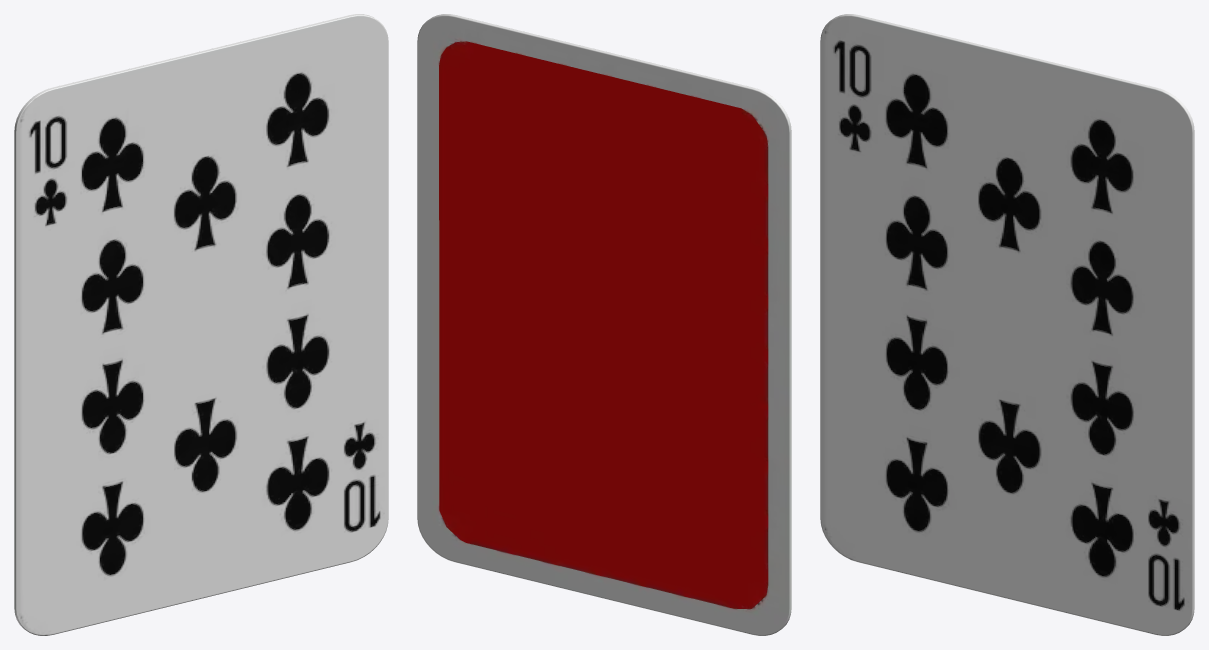
File: clubs_10-transformed.glb
The picture shows the model from 3 angles, left to right: view 1: azimuth 30°, elevation 25°; view 2: azimuth 150°, elevation 25°; view 3: azimuth 330°, elevation 25°; orthographic projection.
Parts seen in each view (by area): view 1: defaultMaterial.014; view 2: defaultMaterial.014; view 3: defaultMaterial.014.
Part boxes in pixels (x1,y1,x2,y2): defaultMaterial.014: [14, 14, 388, 635]; defaultMaterial.014: [417, 14, 791, 635]; defaultMaterial.014: [820, 14, 1194, 635].
Size of the model in its own units: 0.1408 by 0.1972 by 0.00111.
Materials: 1 (1 with a texture image).
